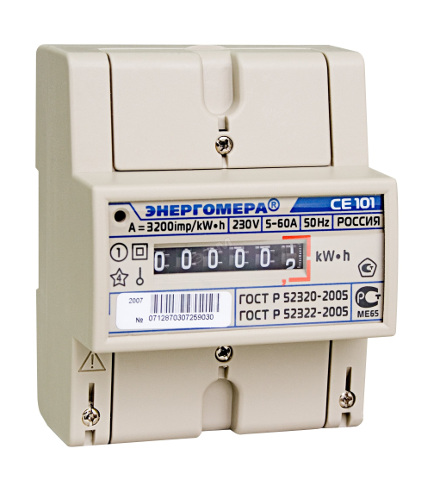counter: (60, 45, 397, 439)
counter_screen: (150, 238, 310, 280)
